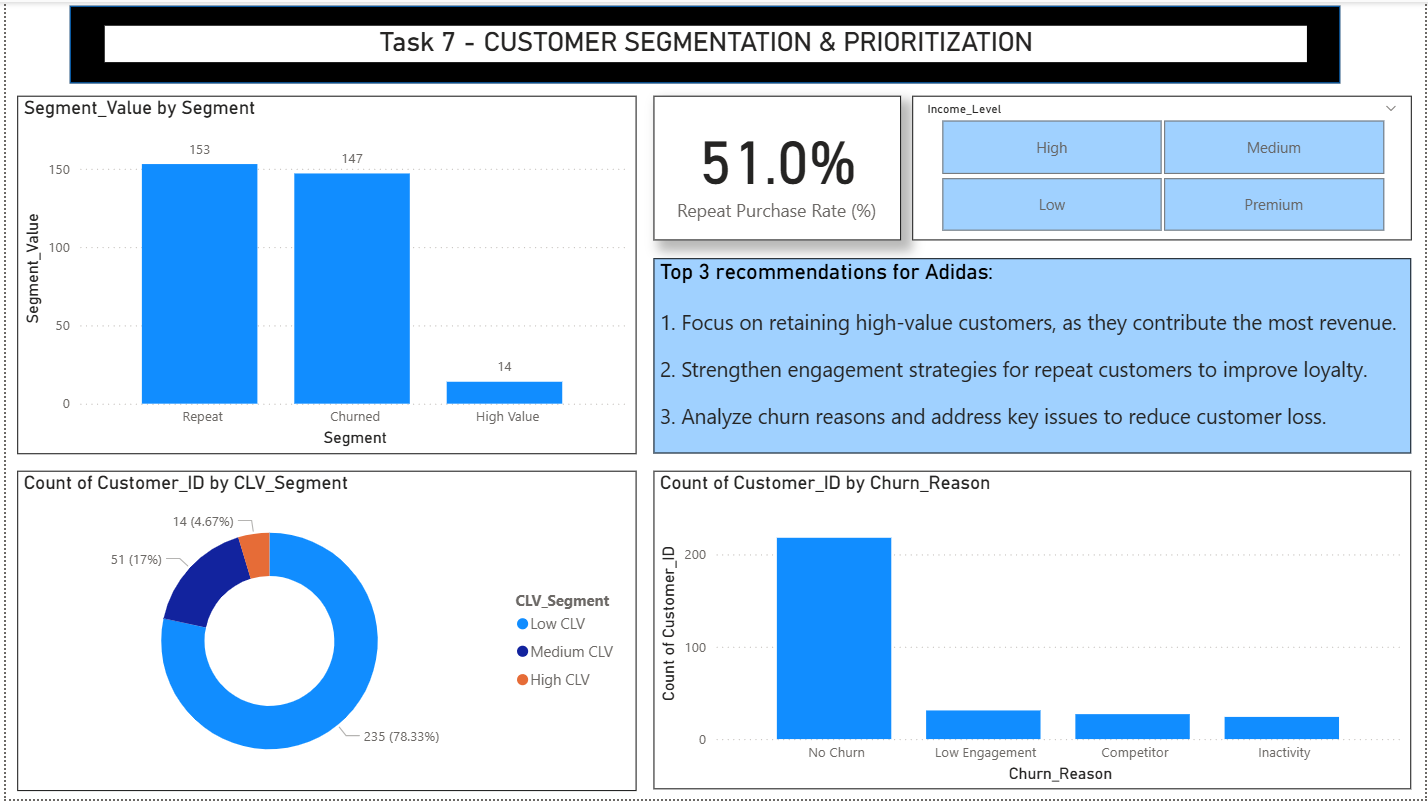

The page's visual inventory and layout, read from the dashboard file:
{"tool":"powerbi","page":{"name":"Task 7 - Customer Segmentation & Insights","canvas":[1280,720],"ordinal":8},"visuals":[{"type":"shape","box":[57.1,2.9,1145.7,70],"z":0},{"type":"textbox","title":"Task 7 - CUSTOMER SEGMENTATION & PRIORITIZATION","box":[88.6,21.4,1084.3,32.9],"z":1},{"type":"clusteredColumnChart","fields":{"Category":["Segmentation_Table.Segment"],"Y":["Segmentation_Table.Segment_Value"]},"box":[10,84.3,558.6,322.9],"z":2},{"type":"donutChart","fields":{"Category":["Customer demographics adidas - Customer_Demographics.CLV_Segment"],"Y":["CountNonNull(Customer demographics adidas - Customer_Demographics.Customer_ID)"]},"box":[10,422.9,558.6,288.6],"z":3},{"type":"clusteredColumnChart","fields":{"Category":["customer churned - Churn_Labelled_Customers.Churn_Reason"],"Y":["CountNonNull(Customer demographics adidas - Customer_Demographics.Customer_ID)"]},"box":[584.3,422.9,682.9,287.1],"z":4},{"type":"card","fields":{"Values":["Customer demographics adidas - Customer_Demographics.Repeat Purchase Rate (%)"]},"box":[584.3,84.3,222.9,130],"z":5},{"type":"slicer","fields":{"Values":["Customer demographics adidas - Customer_Demographics.Income_Level"]},"box":[817.1,84.3,450,130],"z":6},{"type":"textbox","title":"Top 3 recommendations for Adidas:","box":[584.3,231.4,682.9,175.7],"z":7}]}

Visuals, with their boxes in screenshot pixels (x1, y1, x2, y2), scaled from the page's 1280x720 canvas onto the 1428x802 screenshot:
shape: x1=64 y1=3 x2=1342 y2=81
"Task 7 - CUSTOMER SEGMENTATION & PRIORITIZATION" textbox: x1=99 y1=24 x2=1309 y2=60
clusteredColumnChart - Segmentation_Table.Segment x Segmentation_Table.Segment_Value: x1=11 y1=94 x2=634 y2=454
donutChart - Customer demographics adidas - Customer_Demographics.CLV_Segment x CountNonNull(Customer demographics adidas - Customer_Demographics.Customer_ID): x1=11 y1=471 x2=634 y2=793
clusteredColumnChart - customer churned - Churn_Labelled_Customers.Churn_Reason x CountNonNull(Customer demographics adidas - Customer_Demographics.Customer_ID): x1=652 y1=471 x2=1414 y2=791
card - Customer demographics adidas - Customer_Demographics.Repeat Purchase Rate (%): x1=652 y1=94 x2=901 y2=239
slicer - Customer demographics adidas - Customer_Demographics.Income_Level: x1=912 y1=94 x2=1414 y2=239
"Top 3 recommendations for Adidas:" textbox: x1=652 y1=258 x2=1414 y2=453
